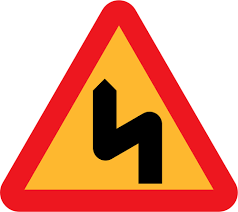Double_bend_left: (2, 2, 238, 211)
